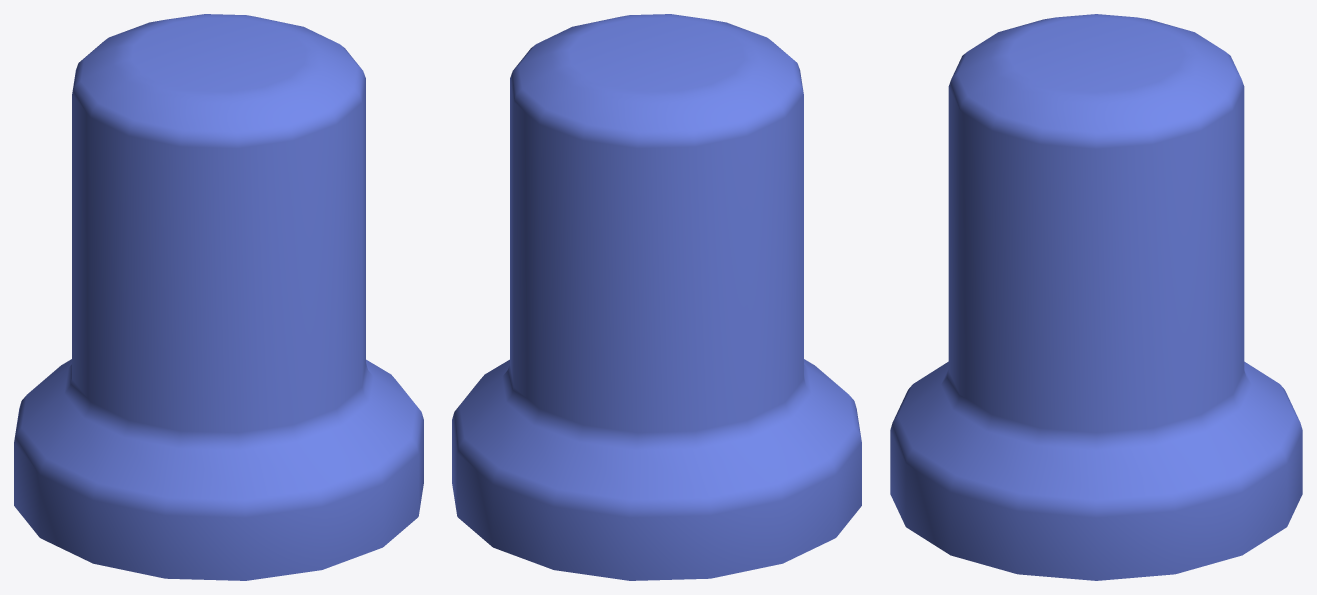
The model's file is pawn_blue.fbx.
The picture shows the model from 3 angles, left to right: view 1: azimuth 30°, elevation 25°; view 2: azimuth 150°, elevation 25°; view 3: azimuth 270°, elevation 25°; orthographic projection.
Visible parts, largest first — view 1: Pawn_Blue; view 2: Pawn_Blue; view 3: Pawn_Blue.
Part boxes in pixels (x1,y1,x2,y2): Pawn_Blue: [14, 14, 423, 580]; Pawn_Blue: [452, 14, 861, 580]; Pawn_Blue: [890, 14, 1302, 580].
Bounding box in the file's own units: 6.49 × 7.61 × 6.49.
Materials: 1 (1 with a texture image).
